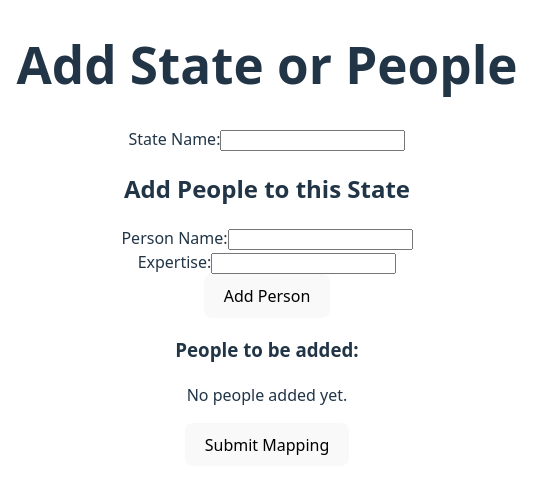
Scenario: Add › shows error when trying to add person without name
Type "Developer" into the field labelled "Expertise:" at (304, 264), box [211,253,396,274]
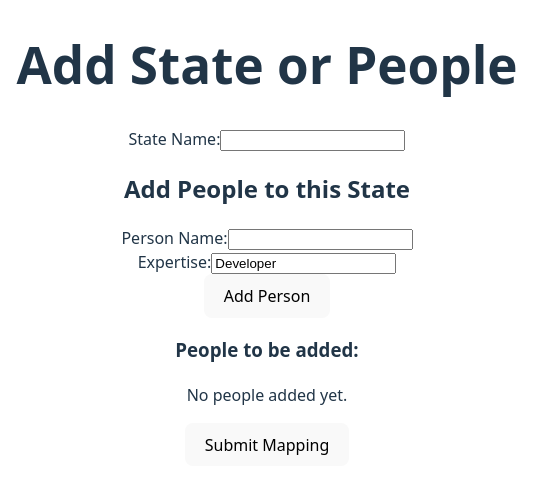
Click the button "Add Person" at (267, 296), box [204,274,330,318]
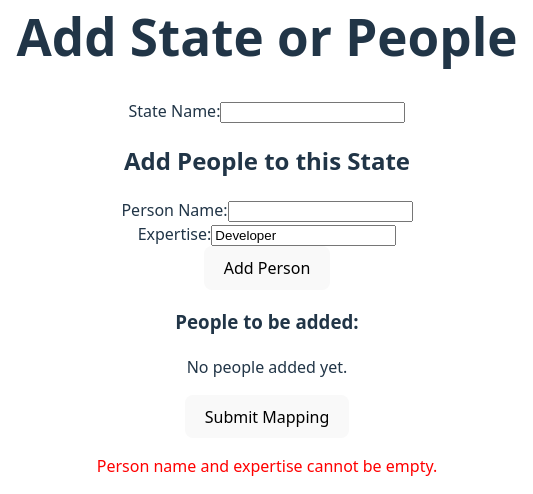
Expected: the text "No people added yet." is shown, [187,356,347,378]
Result: the text "Person name and expertise cannot be empty." is shown at [97,455,437,477]
